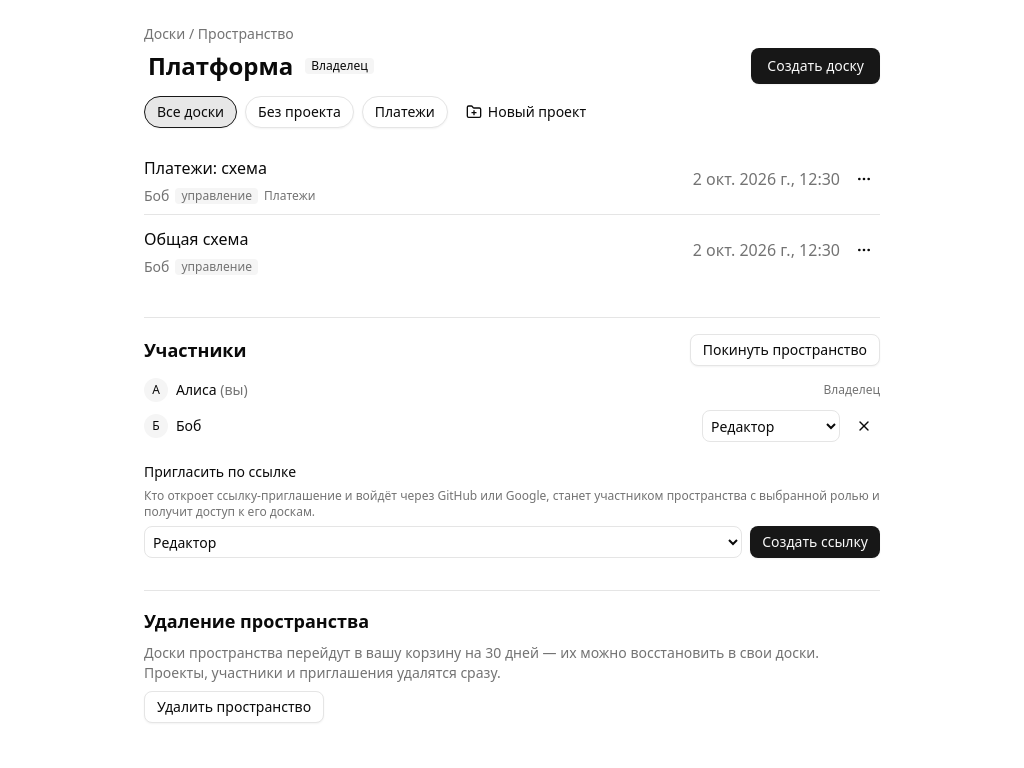
WorkspacePage › tells that the last owner cannot leave
The image size is (1024, 768).
Click the button "Покинуть пространство".
click(785, 350)  # box x1=690 y1=334 x2=880 y2=366
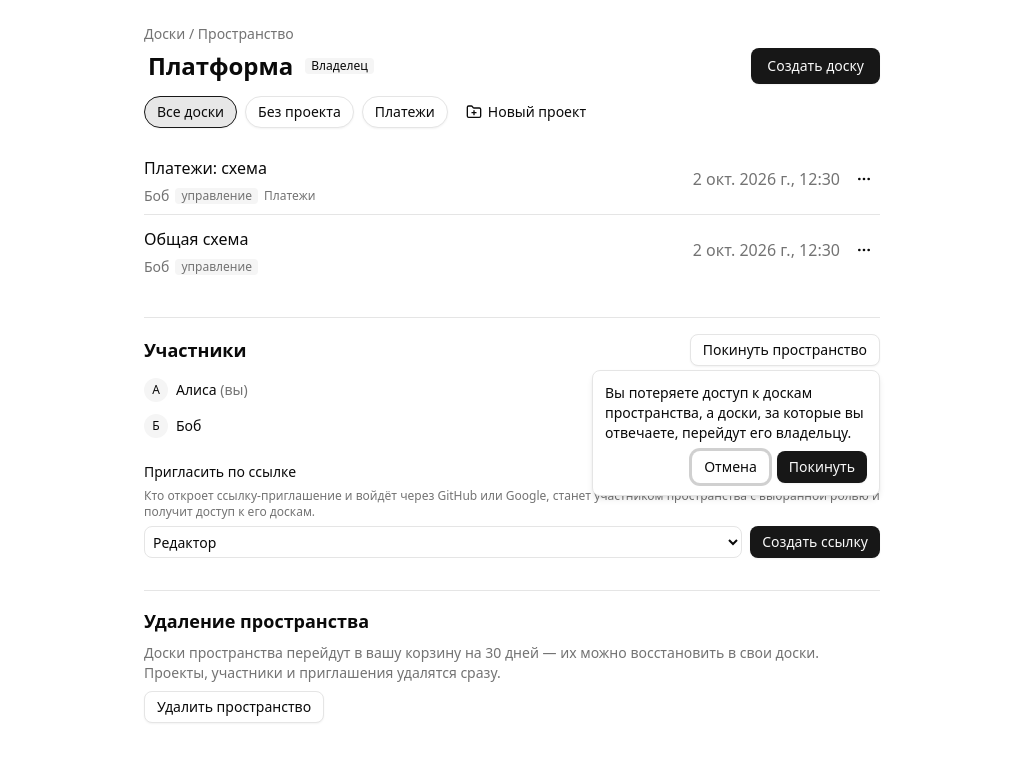
Click the button "Покинуть".
click(822, 467)  # box x1=777 y1=451 x2=867 y2=483
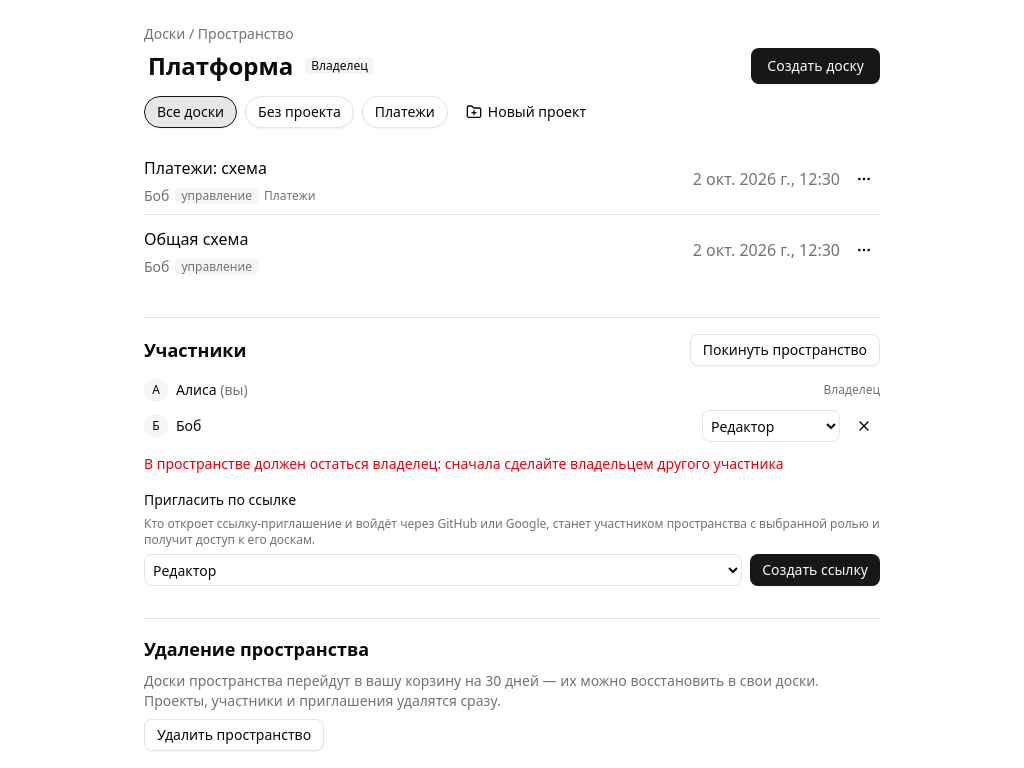
Now the message shows "В пространстве должен остаться владелец", box x1=144 y1=454 x2=784 y2=473
